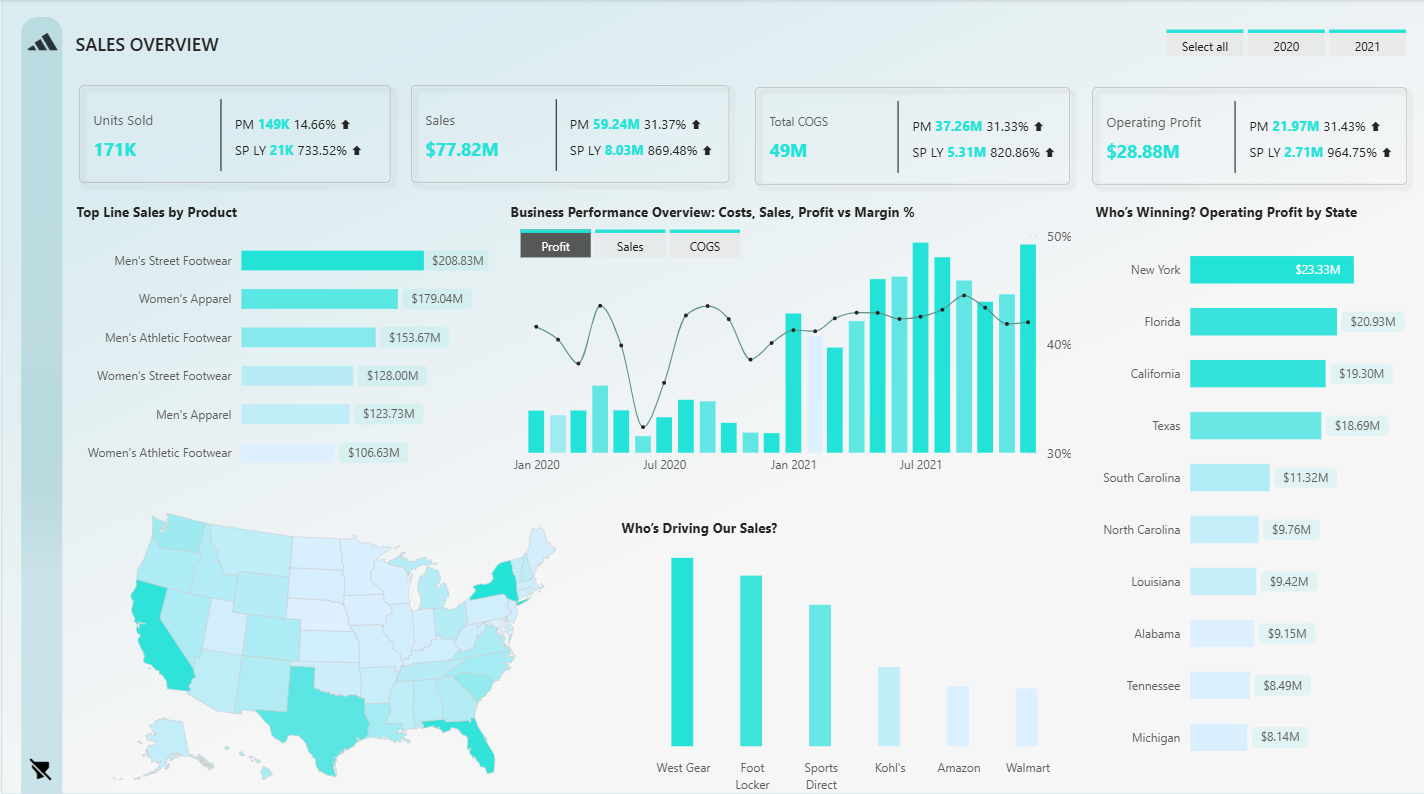

The dashboard page shown, as its layout file describes it:
{"tool":"powerbi","page":{"name":"Main","canvas":[1280,720],"ordinal":0},"visuals":[{"type":"cardVisual","fields":{"Data":["Measures Table.Overall Sales"]},"box":[350.8,60.6,320,122.3],"z":0},{"type":"cardVisual","fields":{"Data":["Measures Table.Overall Operating Profit"]},"box":[962.1,61.7,317.9,122.3],"z":1000},{"type":"clusteredColumnChart","title":"Who’s Driving Our Sales?","fields":{"Category":["Data Sales Adidas.Retailer"],"Y":["Sum(Data Sales Adidas.Sales)"]},"box":[551.8,466.7,410.4,253],"z":2000},{"type":"shapeMap","fields":{"Value":["Sum(Data Sales Adidas.Sales)"],"Category":["Data Sales Adidas.State"]},"box":[44.4,443.6,510.7,275.9],"z":3000},{"type":"lineStackedColumnComboChart","title":"Business Performance Overview: Costs, Sales, Profit vs Margin %","fields":{"Y":["Measures Table.Overall Operating Profit"],"Category":["Calendar.Date Hierarchy.MonthStart","Calendar.Date Hierarchy.WeekStart"],"Y2":["Avg(Data Sales Adidas.Operating Margin)"]},"box":[452.5,183.1,512.6,253.2],"z":4000},{"type":"cardVisual","fields":{"Data":["Measures Table.Overall Units Sold"]},"box":[53.2,60.6,314.7,122.3],"z":5000},{"type":"clusteredBarChart","title":"Top Line Sales by Product","fields":{"Category":["Data Sales Adidas.Product"],"Y":["Sum(Data Sales Adidas.Sales)"]},"box":[62.7,182.9,379.5,253],"z":6000},{"type":"clusteredBarChart","title":"Who’s Winning? Operating Profit by State","fields":{"Y":["Measures Table.Overall Operating Profit"],"Category":["Data Sales Adidas.State"]},"box":[978.1,182.9,289.2,516.7],"z":7000},{"type":"textbox","box":[62.2,24.4,163.3,32.2],"z":8000},{"type":"cardVisual","fields":{"Data":["Measures Table.Total COGS"]},"box":[660.2,61.7,317.9,122.3],"z":9000},{"type":"image","box":[17.8,20,38.9,36.7],"z":10000},{"type":"image","box":[17.8,675.6,35.6,33.3],"z":11000},{"type":"advancedSlicerVisual","fields":{"Values":["Metric Selection.Metric Selection"]},"box":[461.4,202,209.2,35.9],"z":12000},{"type":"advancedSlicerVisual","fields":{"Values":["Calendar.Year"]},"box":[1041.4,22.4,225.3,34.1],"z":13000}]}

Visuals, with their boxes in screenshot pixels (x1, y1, x2, y2), scaled from the page's 1280x720 canvas onto the 1424x794 screenshot:
cardVisual - Measures Table.Overall Sales: BBox(390, 67, 746, 202)
cardVisual - Measures Table.Overall Operating Profit: BBox(1070, 68, 1423, 203)
"Who’s Driving Our Sales?" clusteredColumnChart: BBox(614, 515, 1070, 793)
shapeMap - Sum(Data Sales Adidas.Sales) x Data Sales Adidas.State: BBox(49, 489, 618, 793)
"Business Performance Overview: Costs, Sales, Profit vs Margin %" lineStackedColumnComboChart: BBox(503, 202, 1074, 481)
cardVisual - Measures Table.Overall Units Sold: BBox(59, 67, 409, 202)
"Top Line Sales by Product" clusteredBarChart: BBox(70, 202, 492, 481)
"Who’s Winning? Operating Profit by State" clusteredBarChart: BBox(1088, 202, 1410, 772)
textbox: BBox(69, 27, 251, 62)
cardVisual - Measures Table.Total COGS: BBox(734, 68, 1088, 203)
image: BBox(20, 22, 63, 63)
image: BBox(20, 745, 59, 782)
advancedSlicerVisual - Metric Selection.Metric Selection: BBox(513, 223, 746, 262)
advancedSlicerVisual - Calendar.Year: BBox(1159, 25, 1409, 62)
